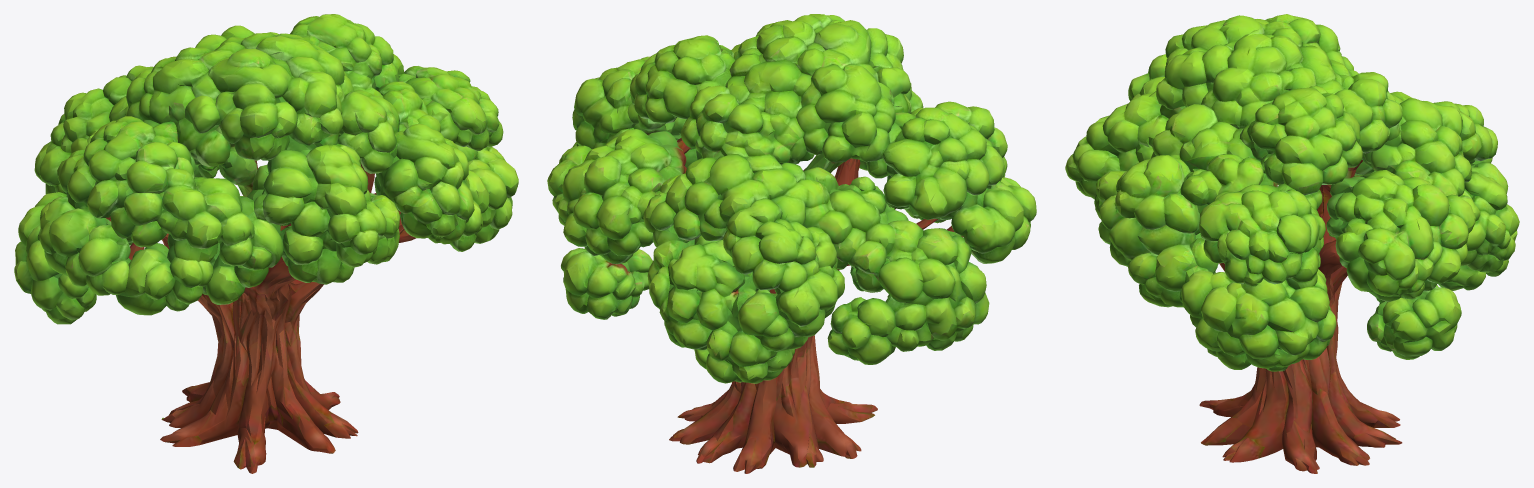
Rendered from tree.glb.
The picture shows the model from 3 angles, left to right: view 1: azimuth 30°, elevation 25°; view 2: azimuth 150°, elevation 25°; view 3: azimuth 270°, elevation 25°; orthographic projection. The views are drawn at different scales.
Bounding box in the file's own units: 1.9 × 1.59 × 1.66.
1 material, 1 textured.
